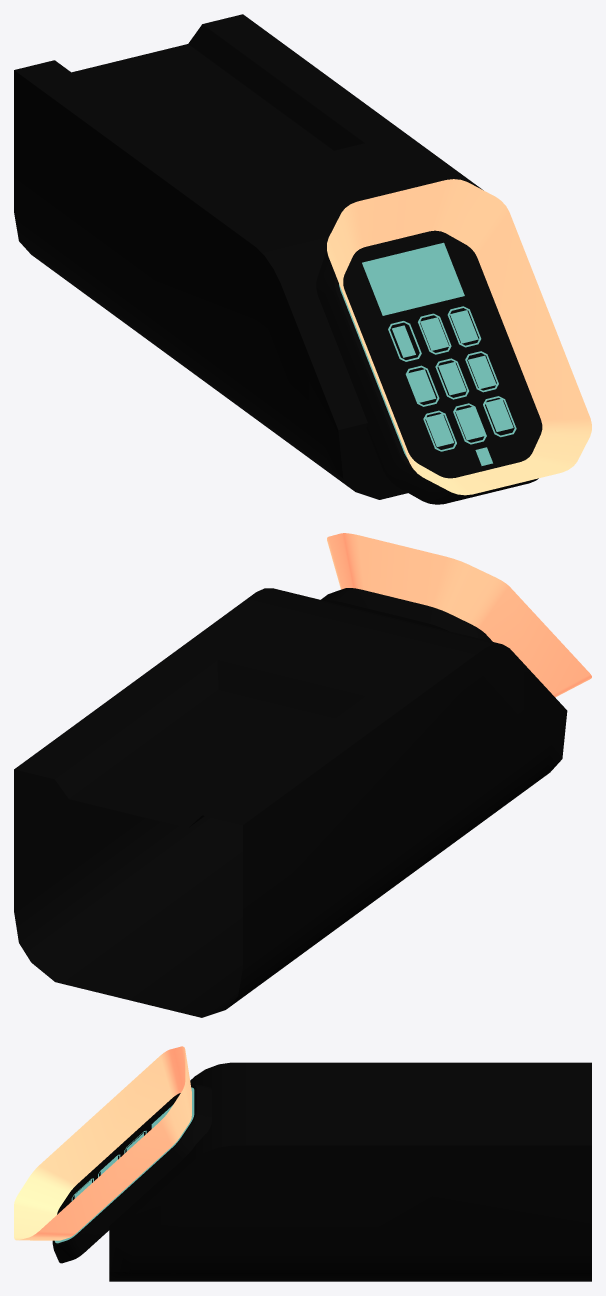
Rendered from q-access.gltf.
3 views of the same model, one above another, from view 1: azimuth 30°, elevation 25°; view 2: azimuth 150°, elevation 25°; view 3: azimuth 270°, elevation 25° (orthographic). The views are drawn at different scales.
Visible parts, largest first — view 1: Prop_AccessPoint; view 2: Prop_AccessPoint; view 3: Prop_AccessPoint.
Boxes of the visible parts, x1,y1,x2,y2 form: Prop_AccessPoint: (14, 14, 591, 504); Prop_AccessPoint: (14, 533, 591, 1017); Prop_AccessPoint: (14, 1046, 591, 1281).
Bounding box in the file's own units: 0.4412 × 0.4679 × 1.3.
